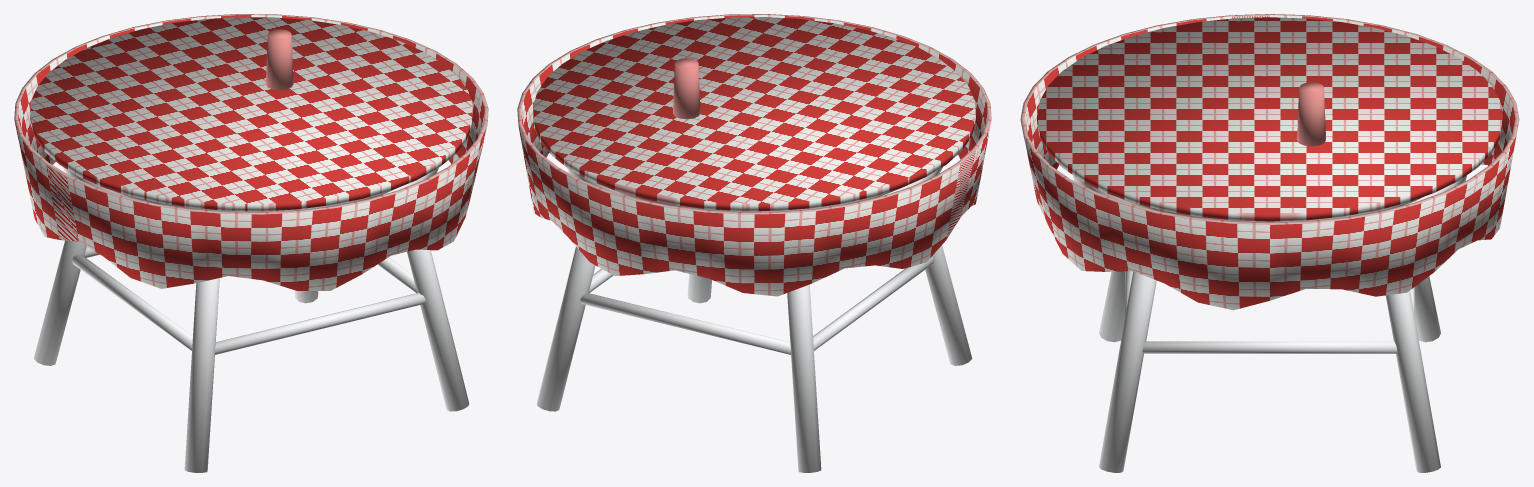
File: table_cloth.glb
The picture shows the model from 3 angles, left to right: view 1: azimuth 30°, elevation 25°; view 2: azimuth 150°, elevation 25°; view 3: azimuth 270°, elevation 25°; orthographic projection. The views are drawn at different scales.
Parts seen in each view (by area): view 1: table_cloth_cloth, table_cloth_skirt, table_cloth_leg2, table_cloth_leg3, table_cloth_leg1, table_cloth_brace2, table_cloth_brace1, table_cloth_ketchup, table_cloth_brace3, table_cloth_top; view 2: table_cloth_cloth, table_cloth_skirt, table_cloth_leg1, table_cloth_leg0, table_cloth_brace0, table_cloth_leg2, table_cloth_brace1, table_cloth_ketchup, table_cloth_leg3, table_cloth_top; view 3: table_cloth_cloth, table_cloth_skirt, table_cloth_leg3, table_cloth_leg0, table_cloth_brace3, table_cloth_ketchup, table_cloth_leg2, table_cloth_leg1, table_cloth_top.
Boxes of the visible parts, bbox=[...] form: table_cloth_cloth: bbox=[30, 17, 472, 211]; table_cloth_skirt: bbox=[14, 14, 488, 290]; table_cloth_leg2: bbox=[184, 278, 219, 472]; table_cloth_leg3: bbox=[407, 249, 469, 411]; table_cloth_leg1: bbox=[33, 240, 86, 365]; table_cloth_brace2: bbox=[214, 293, 425, 354]; table_cloth_brace1: bbox=[71, 254, 192, 350]; table_cloth_ketchup: bbox=[266, 29, 293, 90]; table_cloth_brace3: bbox=[377, 257, 416, 292]; table_cloth_top: bbox=[104, 188, 395, 211]; table_cloth_cloth: bbox=[533, 17, 975, 211]; table_cloth_skirt: bbox=[517, 14, 991, 296]; table_cloth_leg1: bbox=[787, 284, 821, 472]; table_cloth_leg0: bbox=[536, 247, 595, 411]; table_cloth_brace0: bbox=[580, 293, 791, 354]; table_cloth_leg2: bbox=[925, 245, 972, 365]; table_cloth_brace1: bbox=[813, 256, 934, 350]; table_cloth_ketchup: bbox=[673, 58, 700, 119]; table_cloth_leg3: bbox=[687, 274, 711, 303]; table_cloth_top: bbox=[610, 188, 901, 212]; table_cloth_cloth: bbox=[1037, 17, 1502, 221]; table_cloth_skirt: bbox=[1020, 14, 1519, 310]; table_cloth_leg3: bbox=[1099, 271, 1156, 472]; table_cloth_leg0: bbox=[1385, 290, 1440, 472]; table_cloth_brace3: bbox=[1142, 341, 1397, 353]; table_cloth_ketchup: bbox=[1297, 82, 1325, 146]; table_cloth_leg2: bbox=[1099, 271, 1124, 342]; table_cloth_leg1: bbox=[1415, 276, 1440, 342]; table_cloth_top: bbox=[1117, 197, 1422, 222].
Bounding box in the file's own units: 1.2 × 0.907 × 1.2.
3 materials, 1 textured.
